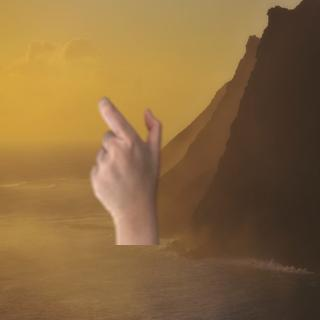Irritated: (79, 97, 175, 242)
